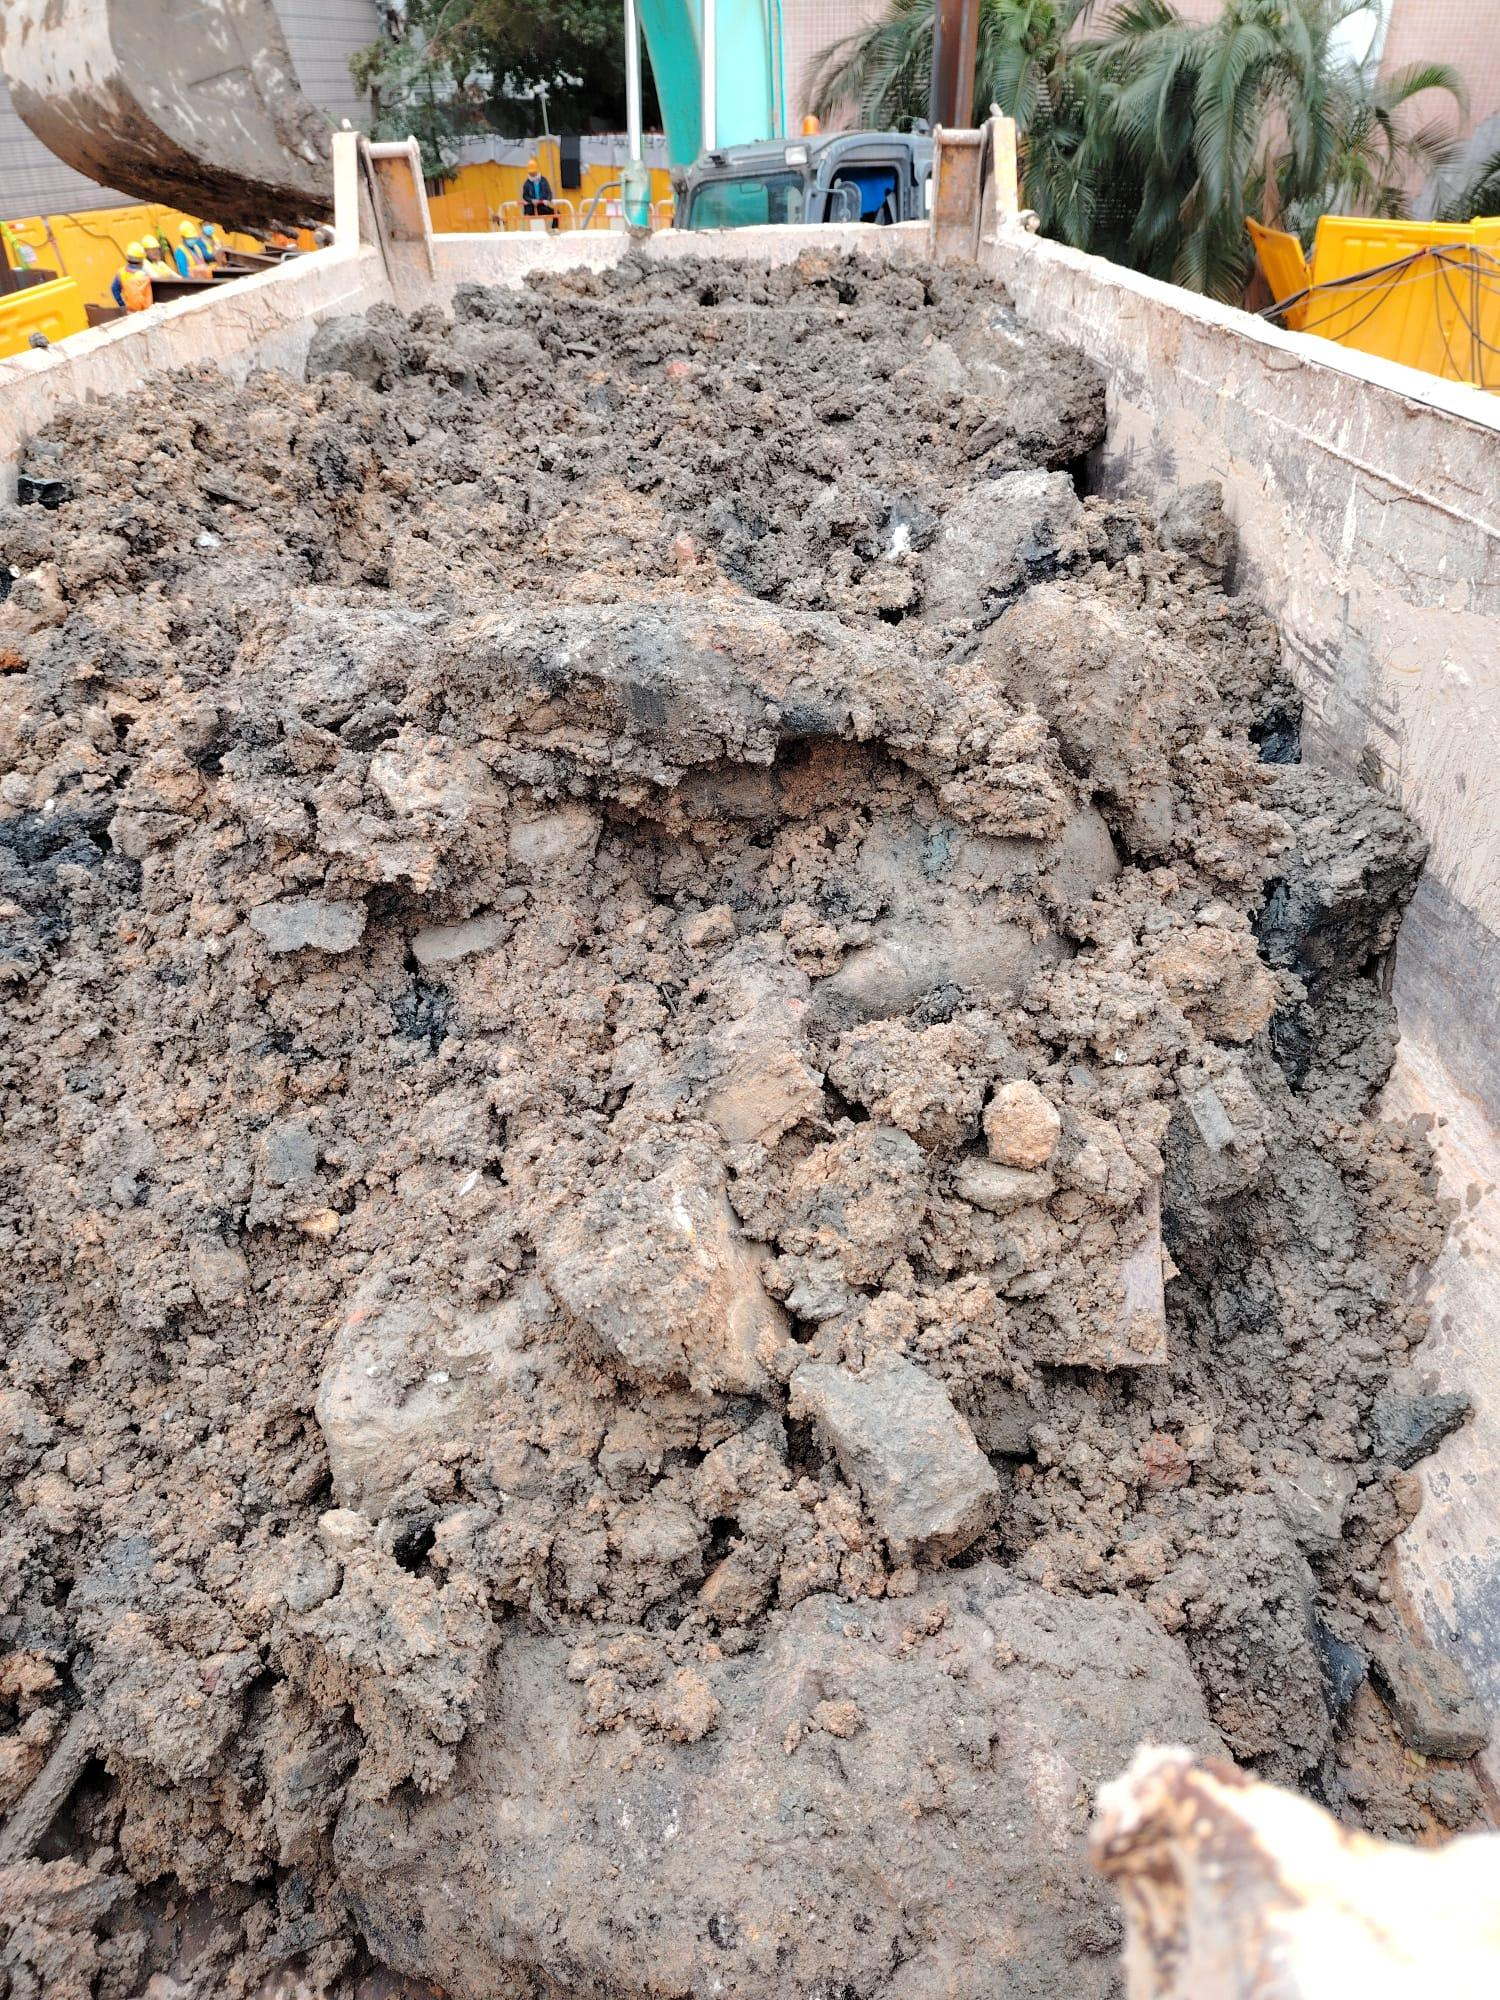wet: (0, 277, 1440, 1987)
